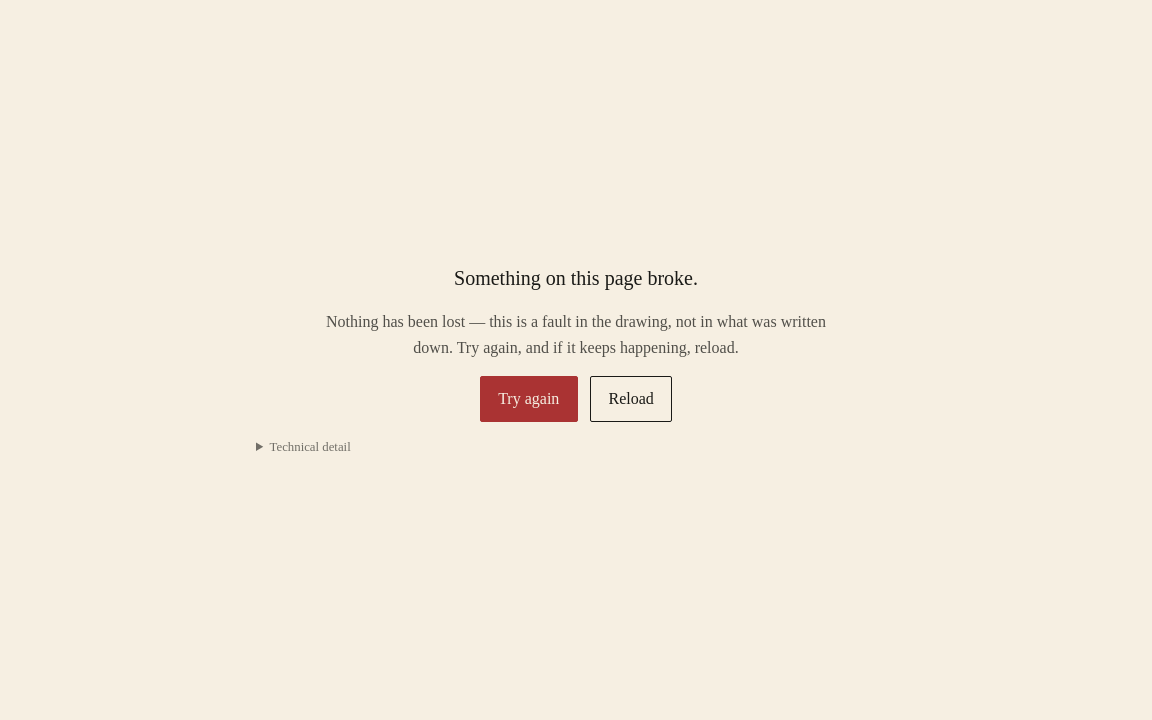
Test: when a screen throws › really re-renders on “try again”, rather than only clearing itself
What coordinates should you click on to do the following:
click the button "Try again"
I would click on:
 (529, 399)
Its box is [480,376,578,422].
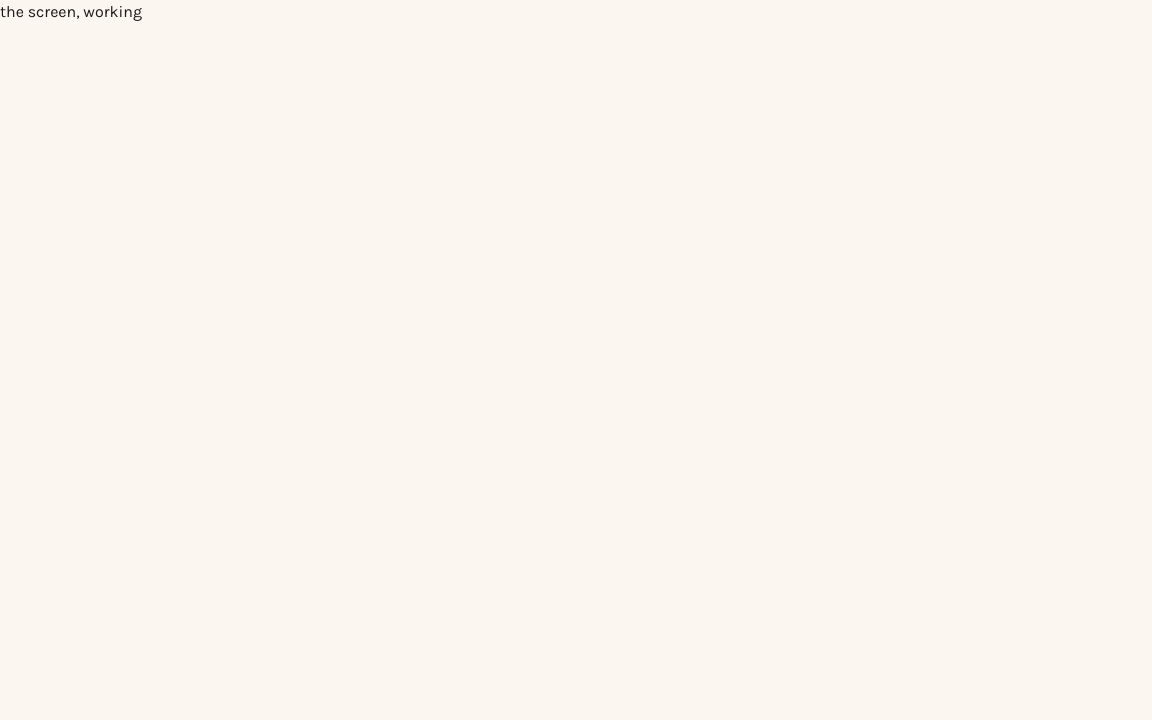
expect the text "the screen, working" is shown: met, box [0,2,142,21]
expect the message is gone: met
